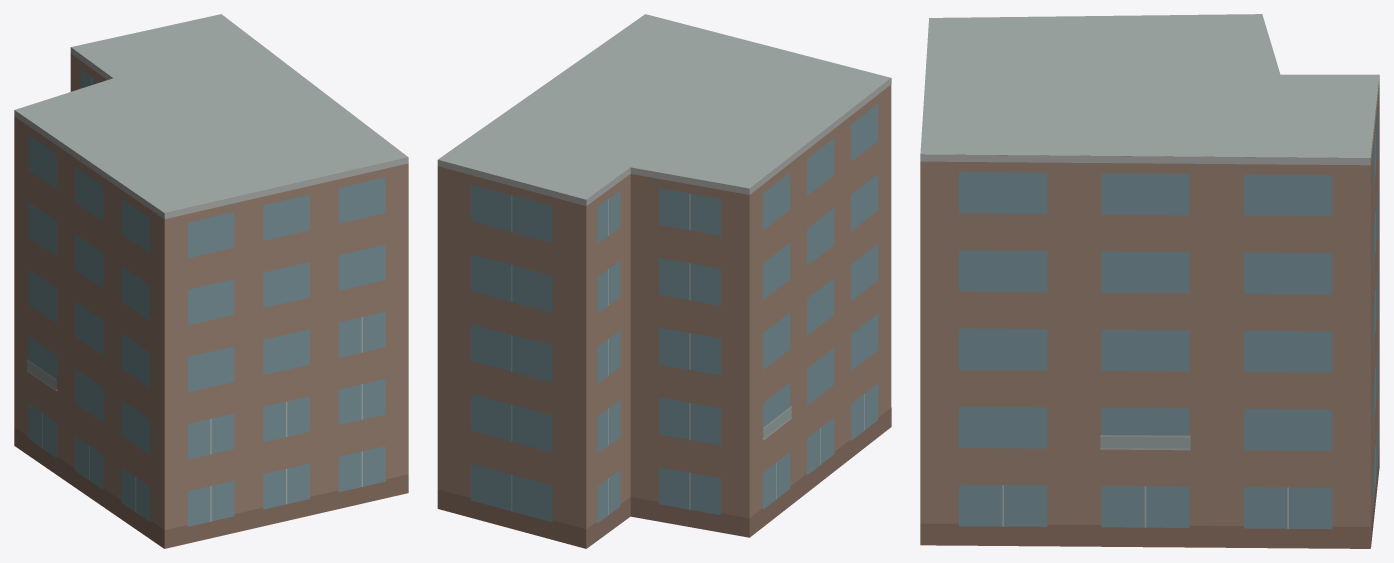
The model's file is survey-upis-32684683.glb.
3 renders of one model, left to right at view 1: azimuth 30°, elevation 25°; view 2: azimuth 150°, elevation 25°; view 3: azimuth 270°, elevation 25°, orthographic. The views are drawn at different scales.
Visible parts, largest first — view 1: survey-upis-32684683.tmp; view 2: survey-upis-32684683.tmp; view 3: survey-upis-32684683.tmp.
Boxes of the visible parts, x1,y1,x2,y2 form: survey-upis-32684683.tmp: (14,14,408,548); survey-upis-32684683.tmp: (437,14,891,548); survey-upis-32684683.tmp: (920,14,1379,548).
Size of the model in its own units: 10.49 by 13.25 by 14.12.
